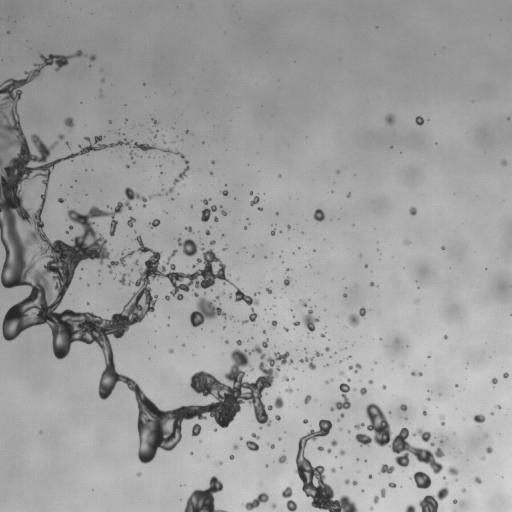droplet: (184, 476, 227, 511), (190, 292, 226, 327), (293, 308, 319, 332), (201, 198, 226, 221), (330, 383, 350, 411), (177, 238, 198, 256), (411, 471, 431, 489), (413, 428, 430, 442), (300, 357, 316, 369), (246, 440, 259, 451), (379, 464, 394, 473), (313, 209, 324, 221), (192, 423, 201, 436), (349, 363, 361, 372), (473, 414, 485, 423), (385, 114, 395, 124), (64, 117, 73, 127), (250, 195, 259, 205), (149, 219, 160, 227), (127, 217, 135, 227), (448, 467, 458, 475), (405, 504, 416, 511), (415, 116, 423, 125), (411, 370, 422, 376), (278, 455, 286, 463), (283, 277, 290, 286), (354, 423, 364, 429), (409, 207, 416, 215), (304, 395, 311, 403), (271, 320, 277, 329), (185, 226, 192, 233), (251, 433, 259, 439), (373, 495, 379, 503), (380, 488, 385, 497), (360, 387, 366, 394), (400, 404, 407, 410), (474, 477, 481, 483), (388, 482, 396, 487), (167, 187, 173, 193), (491, 378, 497, 384), (331, 440, 337, 446), (486, 447, 492, 453), (221, 190, 227, 195), (270, 229, 275, 235), (236, 340, 242, 345), (315, 351, 321, 356), (503, 372, 508, 378), (90, 55, 95, 60), (152, 119, 157, 124), (58, 134, 63, 139), (501, 160, 506, 165), (205, 230, 210, 235), (266, 288, 271, 293), (302, 301, 307, 306), (320, 332, 325, 337), (283, 376, 288, 381), (275, 415, 280, 420), (233, 444, 238, 449), (339, 450, 344, 455), (58, 198, 64, 202), (286, 388, 292, 392), (422, 409, 426, 415), (317, 446, 323, 450), (68, 225, 73, 229), (210, 240, 215, 244), (134, 260, 138, 265), (339, 371, 344, 375), (270, 444, 274, 449), (345, 479, 349, 484), (353, 480, 357, 485), (214, 217, 218, 221), (370, 282, 374, 286), (284, 327, 288, 331), (325, 347, 329, 351), (169, 349, 173, 353), (382, 385, 386, 389), (303, 419, 307, 423), (430, 442, 434, 446), (229, 455, 233, 459), (218, 461, 222, 465), (331, 468, 335, 472), (453, 499, 457, 503), (404, 240, 409, 243), (258, 207, 262, 210), (254, 292, 258, 295), (496, 405, 500, 408), (327, 449, 331, 452), (368, 475, 372, 478), (462, 488, 465, 492), (272, 503, 275, 507), (347, 193, 350, 196), (287, 225, 290, 228), (343, 294, 346, 297), (444, 335, 447, 338), (225, 340, 228, 343), (369, 380, 372, 383), (137, 472, 140, 475), (101, 79, 104, 81), (66, 142, 68, 145), (250, 191, 252, 194), (442, 246, 444, 249), (286, 268, 289, 270), (223, 326, 225, 329), (263, 330, 265, 333), (348, 355, 350, 358), (347, 379, 350, 381), (455, 384, 457, 387), (491, 412, 493, 415), (214, 428, 216, 431), (190, 452, 193, 454), (370, 507, 372, 510), (186, 130, 188, 132), (154, 135, 156, 137), (212, 161, 214, 163), (126, 165, 128, 167), (336, 170, 338, 172), (210, 172, 212, 174), (190, 205, 192, 207), (276, 212, 278, 214), (222, 234, 224, 236), (193, 265, 195, 267), (365, 265, 367, 267), (229, 294, 231, 296), (230, 316, 232, 318), (401, 365, 403, 367), (427, 398, 429, 400), (482, 457, 484, 459)
ligament: (0, 52, 293, 463), (355, 403, 444, 473), (294, 419, 358, 511), (161, 148, 189, 184), (419, 485, 448, 511), (243, 492, 268, 511), (281, 486, 297, 511), (348, 307, 366, 325), (242, 309, 257, 324), (119, 273, 128, 285), (337, 414, 344, 421), (440, 416, 444, 425), (326, 378, 332, 383)
